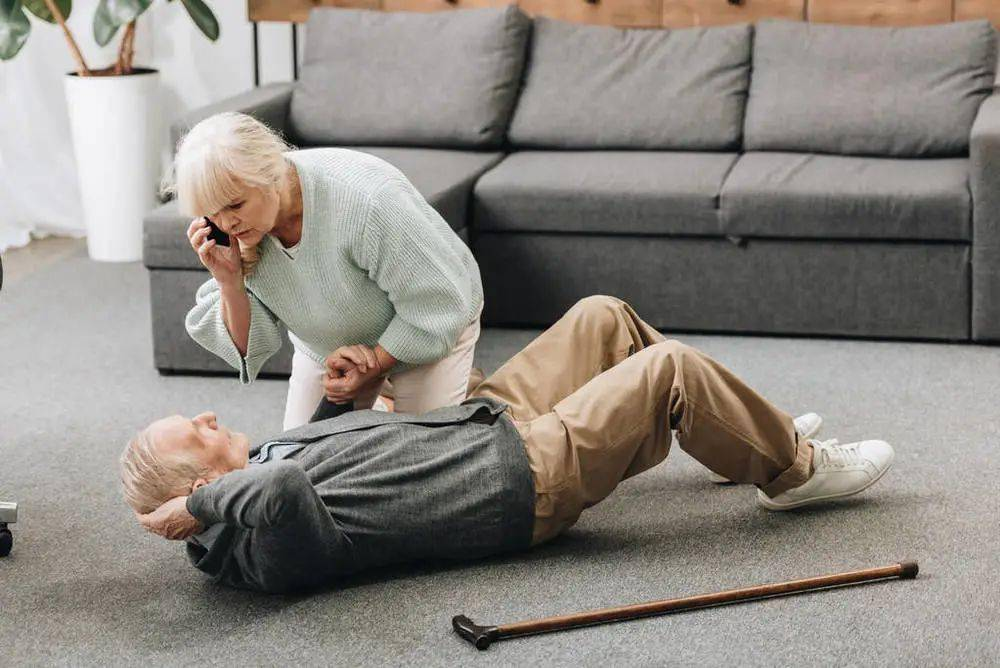falling: (104, 338, 904, 602)
sitting: (180, 115, 483, 461)
